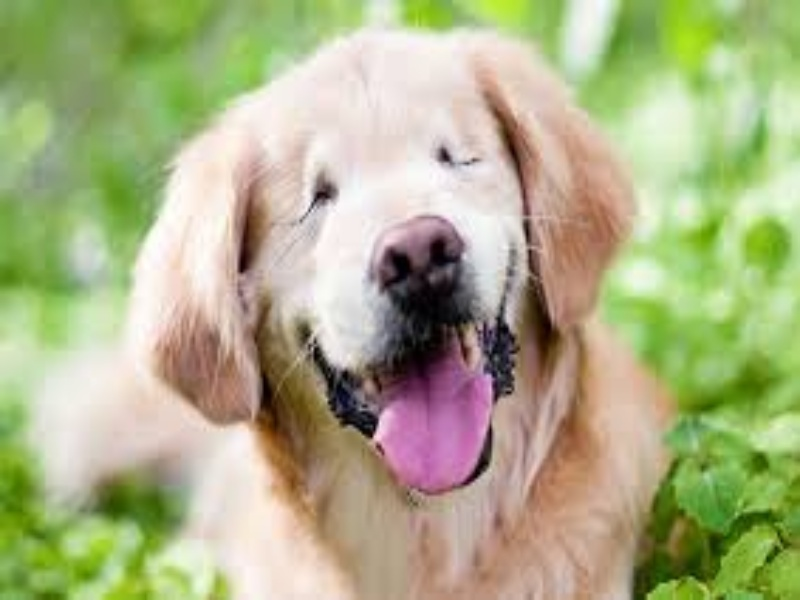dog: (114, 20, 650, 600)
